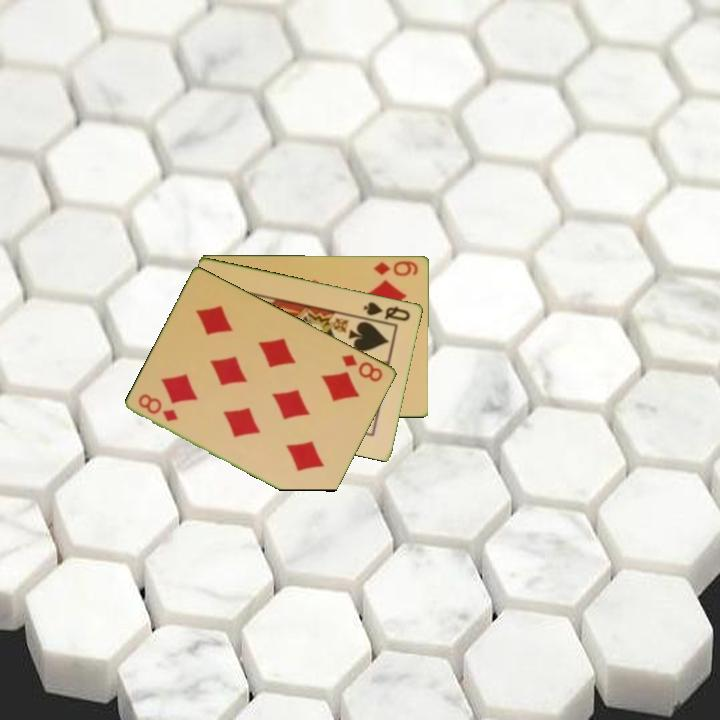6d: (370, 257, 421, 279)
8d: (338, 351, 386, 385), (135, 390, 181, 424)
Qs: (360, 298, 413, 324)
